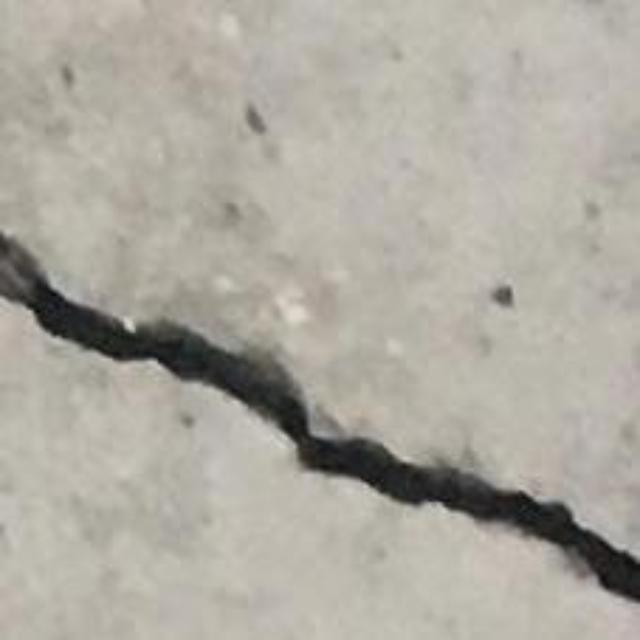crack: (0, 232, 639, 603)
